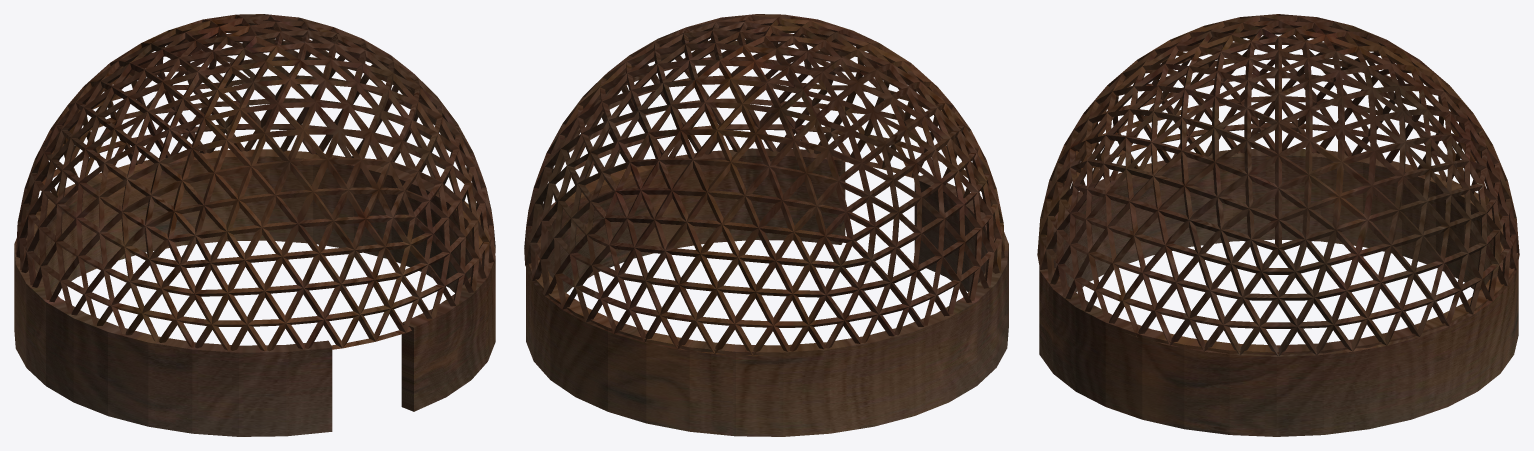
The model's file is Aviario.obj.
3 views of the same model, side by side, from view 1: azimuth 30°, elevation 25°; view 2: azimuth 150°, elevation 25°; view 3: azimuth 270°, elevation 25° (orthographic).
Visible parts, largest first — view 1: Icosphere.001; view 2: Icosphere.001; view 3: Icosphere.001.
Part boxes in pixels (x1,y1,x2,y2): Icosphere.001: (14, 14, 495, 436); Icosphere.001: (524, 14, 1008, 436); Icosphere.001: (1037, 14, 1519, 436).
Bounding box in the file's own units: 26.81 × 18.24 × 26.66.
